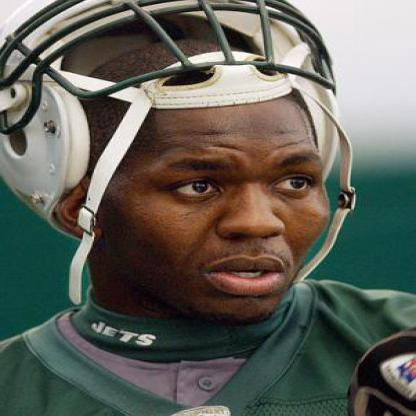face: (90, 48, 336, 330)
